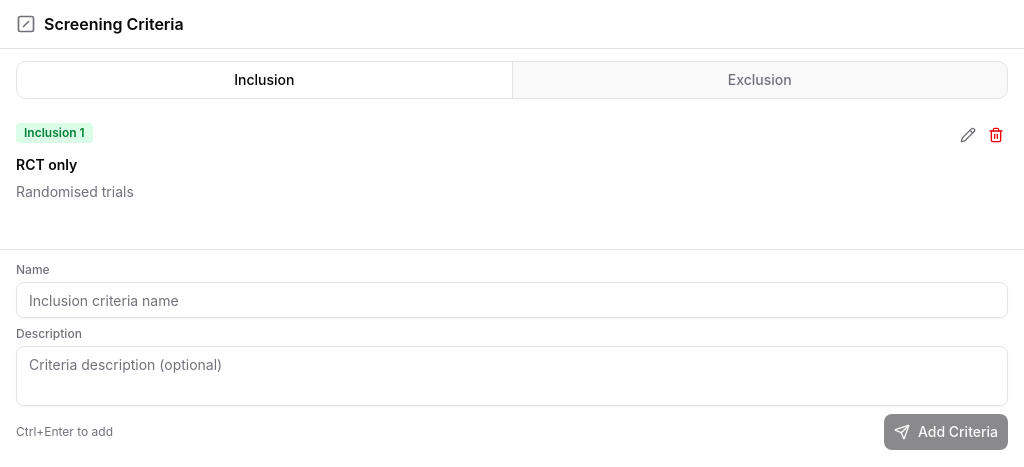
Scenario: Components - ScreeningCriteriaContent › should switch to exclusion tab and show exclusion criteria
What coordinates should you click on to do the following:
click the button "exclusion"
I would click on:
 (759, 80)
Its box is [512,62,1007,98].
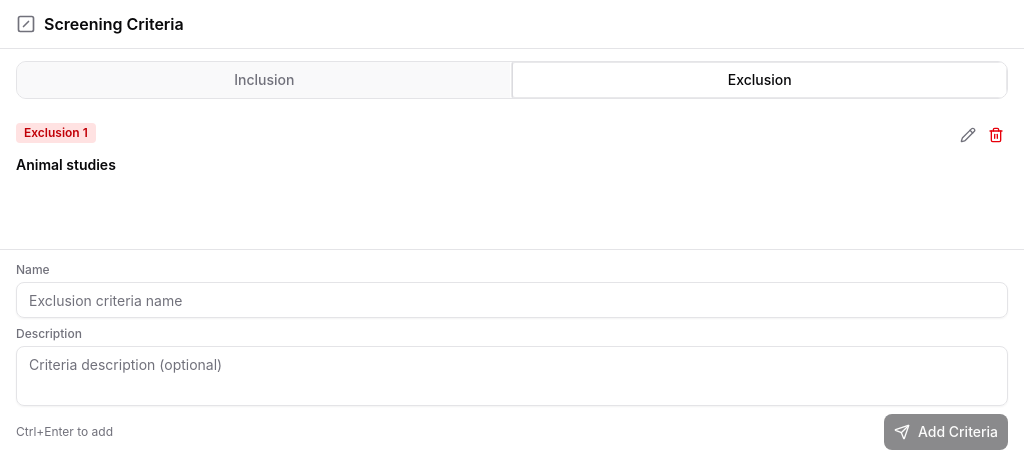
Result: the text "Animal studies" is shown at [16,156,116,173]
